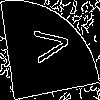V: (25, 24, 70, 66)
